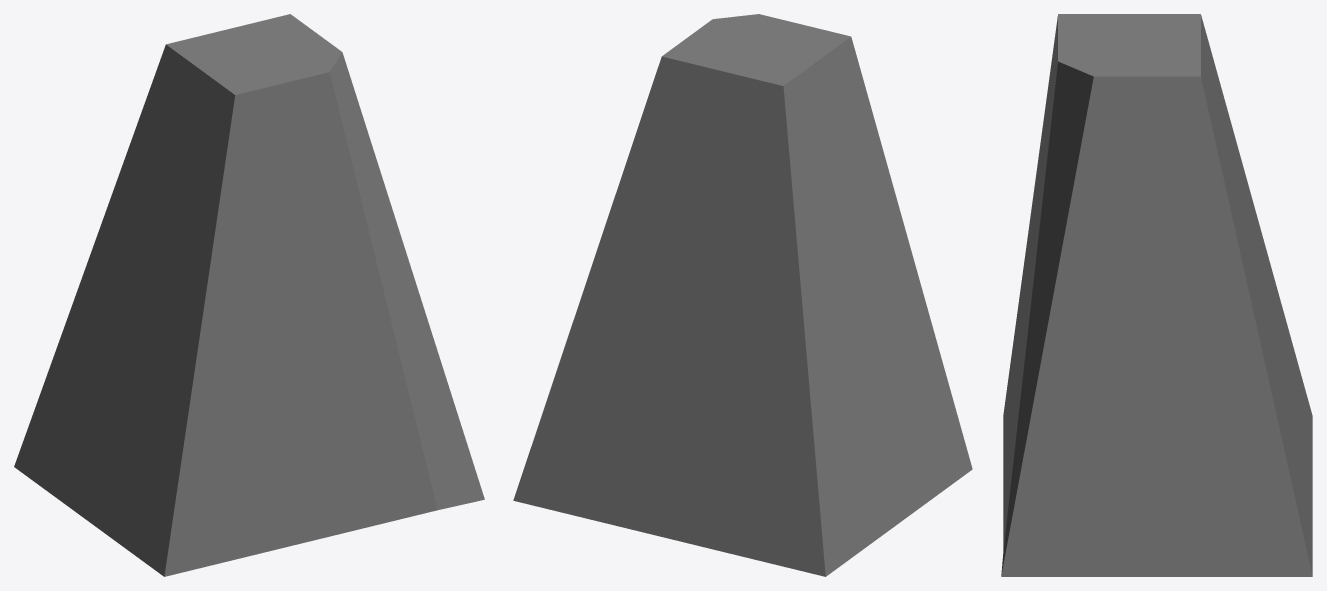
The model's file is Stone 1.fbx.
3 renders of one model, left to right at view 1: azimuth 30°, elevation 25°; view 2: azimuth 150°, elevation 25°; view 3: azimuth 270°, elevation 25°, orthographic. The views are drawn at different scales.
Parts seen in each view (by area): view 1: Stone_1; view 2: Stone_1; view 3: Stone_1.
Part boxes in pixels (box(x1,y1,x2,y2)): Stone_1: box(14, 14, 484, 576); Stone_1: box(513, 14, 972, 576); Stone_1: box(1001, 14, 1312, 576).
Size of the model in its own units: 1.67 by 2.19 by 1.37.
